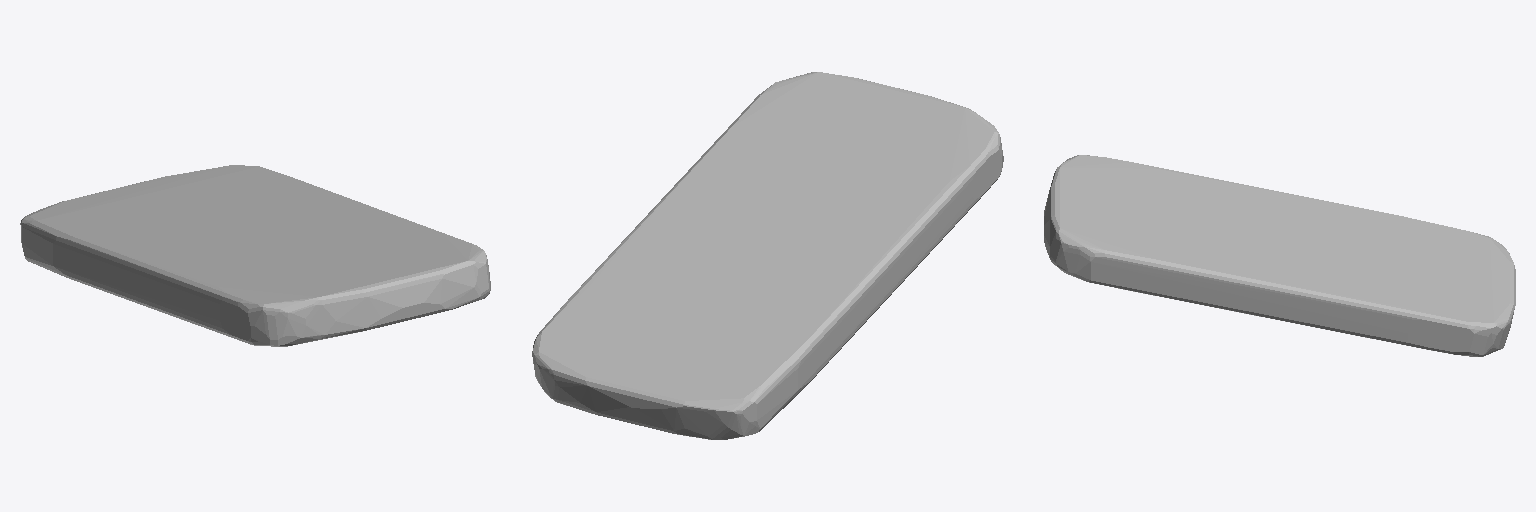
URDF robot description (root):
<robot name="root">
  <link name="link_coacd_convex_piece_0">
    <inertial>
      <origin xyz="0 0 0" rpy="0 0 0"/>
      <inertia ixx="5.36E-02" ixy="-6.66E-04" ixz="1.42E-04" iyy="1.54E-02" iyz="1.08E-02" izz="6.37E-02"/>
    </inertial>
    <visual>
      <origin xyz="0 0 0" rpy="0 0 0"/>
      <geometry>
        <mesh filename="coacd_convex_piece_0.obj" scale="1.0000E+00 1.0000E+00 1.0000E+00"/>
      </geometry>
      <material name="">
        <color rgba="7.50E-01 7.50E-01 7.50E-01 1"/>
      </material>
    </visual>
    <collision>
      <origin xyz="0 0 0" rpy="0 0 0"/>
      <geometry>
        <mesh filename="coacd_convex_piece_0.obj" scale="1.0000E+00 1.0000E+00 1.0000E+00"/>
      </geometry>
    </collision>
  </link>
</robot>

--- Facts derived from the render (not from the file) ---
Views: 3 orthographic renders of the robot side by side, from view 1: azimuth 30°, elevation 25°; view 2: azimuth 150°, elevation 25°; view 3: azimuth 270°, elevation 25°.
Robot: root — 1 links, 0 joints (none); root link link_coacd_convex_piece_0; default pose: every joint at zero.
Visible links, largest first — view 1: link_coacd_convex_piece_0; view 2: link_coacd_convex_piece_0; view 3: link_coacd_convex_piece_0.
Link boxes in pixels (x1=…): link_coacd_convex_piece_0: x1=20, y1=165, x2=490, y2=346; link_coacd_convex_piece_0: x1=532, y1=72, x2=1003, y2=439; link_coacd_convex_piece_0: x1=1044, y1=155, x2=1515, y2=356.
Bounding box of the posed robot: 0.9398 × 1.88 × 0.5312 m (x, y, z).
1 mesh visuals loaded from 1 distinct referenced files (1 OBJ).
